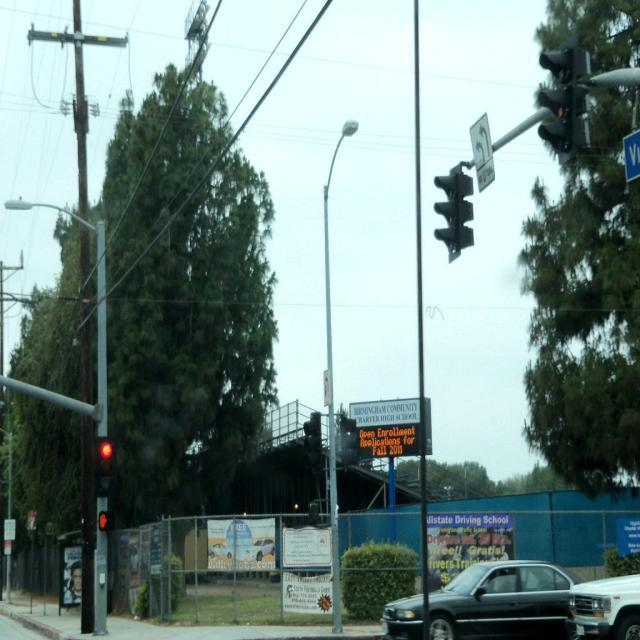off traffic light: (434, 163, 475, 264), (302, 411, 322, 477)
traffic light: (94, 437, 116, 497), (98, 512, 111, 531)
